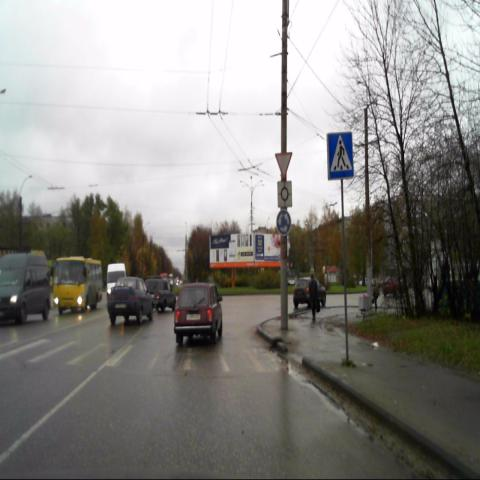4_3: (276, 209, 292, 236)
8_13_1: (276, 180, 293, 208)
